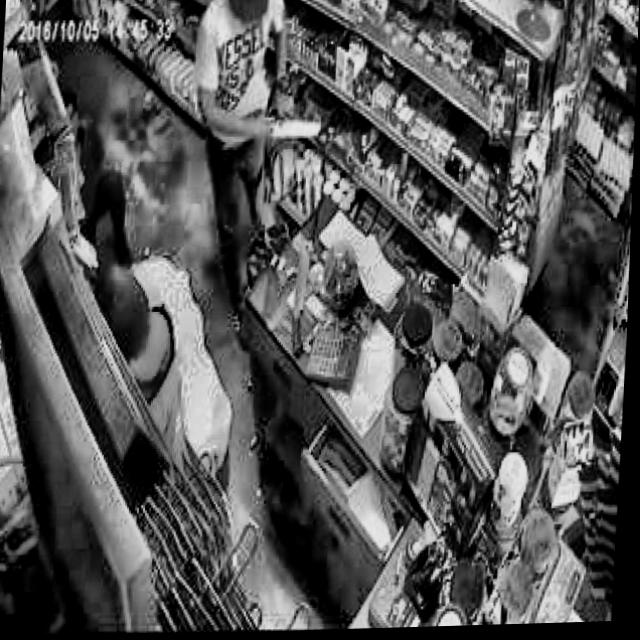robbery: (177, 0, 332, 330)
